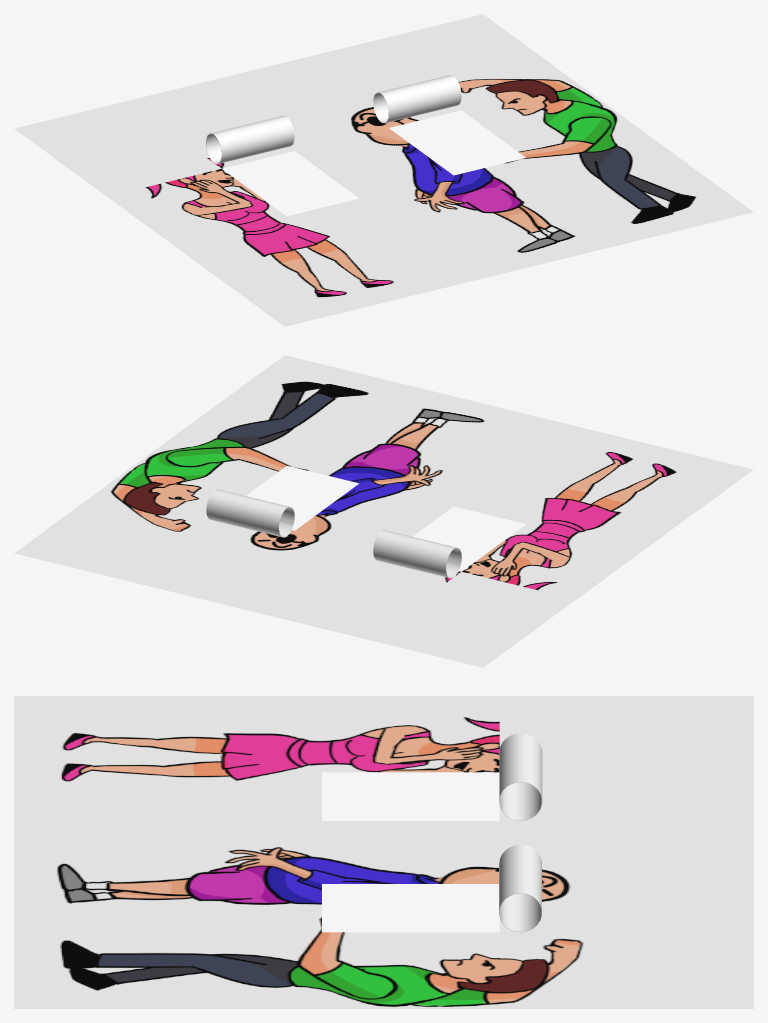
File: Level 181 roll horseshoe magnet.fbx
The picture shows the model from 3 angles, top to bottom: view 1: azimuth 30°, elevation 25°; view 2: azimuth 150°, elevation 25°; view 3: azimuth 270°, elevation 25°; orthographic projection. The views are drawn at different scales.
Visible parts, largest first — view 1: Mesh, Blend, Blend1; view 2: Mesh, Blend, Blend1; view 3: Mesh, Blend, Blend1.
Boxes of the visible parts, x1,y1,x2,y2 form: Mesh: (14, 14, 753, 326); Blend: (206, 115, 294, 163); Blend1: (373, 75, 461, 123); Mesh: (14, 355, 753, 667); Blend: (373, 530, 461, 578); Blend1: (206, 489, 294, 537); Mesh: (14, 696, 753, 1008); Blend: (499, 733, 542, 820); Blend1: (499, 844, 541, 932).
Size of the model in its own units: 2400 by 140 by 2400.
